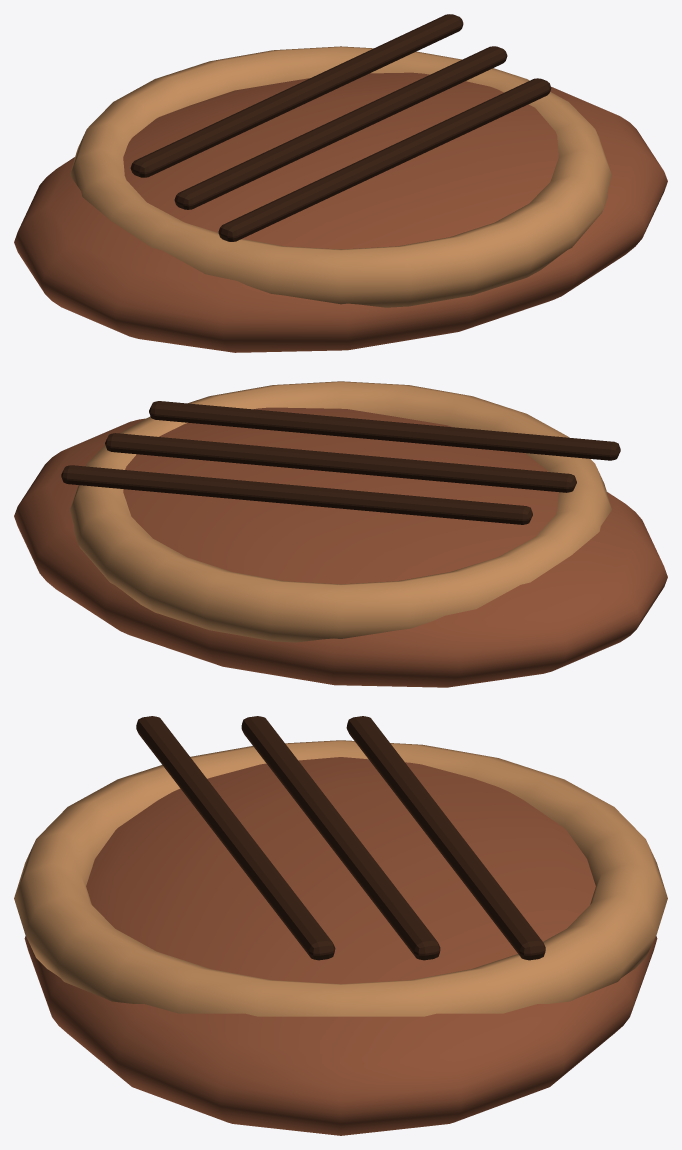
The model's file is MeatCooked.fbx.
3 renders of one model, top to bottom at view 1: azimuth 30°, elevation 25°; view 2: azimuth 150°, elevation 25°; view 3: azimuth 270°, elevation 25°, orthographic. The views are drawn at different scales.
Parts seen in each view (by area): view 1: Steak.001, FatRim.001, GrillMark_-1, GrillMark_1, GrillMark_0; view 2: Steak.001, FatRim.001, GrillMark_1, GrillMark_0, GrillMark_-1; view 3: Steak.001, FatRim.001, GrillMark_0, GrillMark_1, GrillMark_-1.
Part boxes in pixels (x1=…): Steak.001: x1=14, y1=72, x2=667, y2=352; FatRim.001: x1=70, y1=46, x2=611, y2=307; GrillMark_-1: x1=218, y1=78, x2=551, y2=241; GrillMark_1: x1=130, y1=14, x2=463, y2=177; GrillMark_0: x1=174, y1=46, x2=507, y2=209; Steak.001: x1=14, y1=407, x2=667, y2=687; FatRim.001: x1=70, y1=381, x2=611, y2=642; GrillMark_1: x1=61, y1=465, x2=532, y2=524; GrillMark_0: x1=105, y1=433, x2=576, y2=492; GrillMark_-1: x1=149, y1=401, x2=620, y2=460; Steak.001: x1=24, y1=757, x2=657, y2=1135; FatRim.001: x1=14, y1=740, x2=667, y2=1016; GrillMark_0: x1=241, y1=716, x2=440, y2=960; GrillMark_1: x1=346, y1=716, x2=545, y2=960; GrillMark_-1: x1=136, y1=716, x2=335, y2=960.
Size of the model in its own units: 0.7481 by 0.199 by 0.59.
